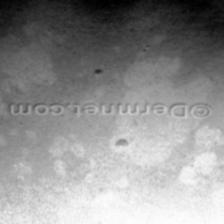Toxin: (112, 136, 136, 152), (86, 64, 108, 80)
